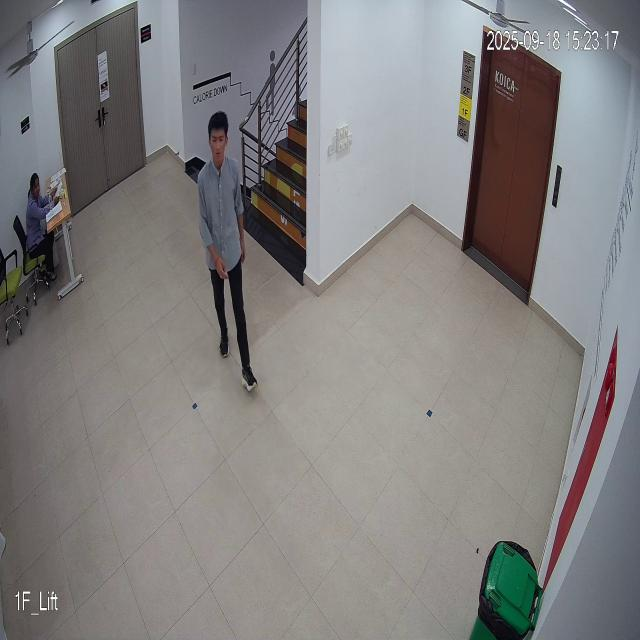face: (204, 112, 236, 172)
